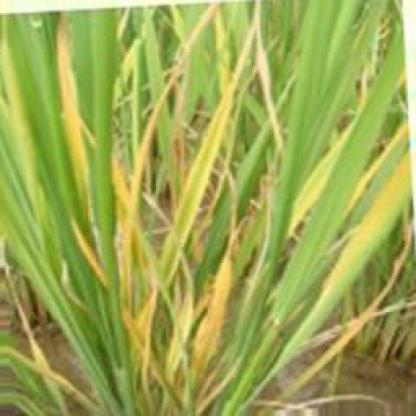Tungro: (246, 154, 414, 348), (109, 3, 200, 284), (170, 36, 260, 260), (146, 242, 257, 413), (288, 110, 366, 240), (47, 13, 98, 192), (64, 226, 110, 291)
